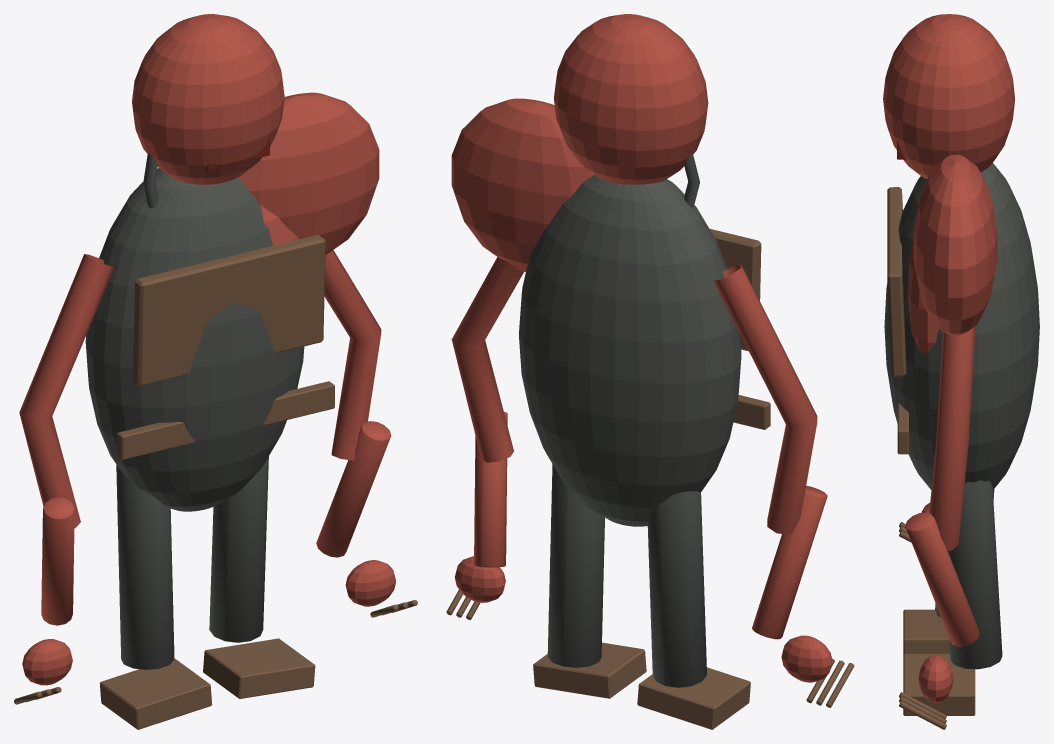
File: dz_enemy_brute_female_A.glb
3 views of the same model, side by side, from view 1: azimuth 30°, elevation 25°; view 2: azimuth 150°, elevation 25°; view 3: azimuth 270°, elevation 25° (orthographic). The views are drawn at different scales.
Parts seen in each view (by area): view 1: dz_torso_core, dz_head_forward, dz_rusted_plate_chest, dz_heavy_shoulder_mutation, dz_limb_leg_L, dz_limb_arm_L, dz_limb_leg_R, dz_limb_arm_R, dz_foot_drag_L, dz_foot_drag_R, dz_limb_forearm_R, dz_limb_forearm_L (+4 smaller); view 2: dz_torso_core, dz_head_forward, dz_heavy_shoulder_mutation, dz_limb_leg_L, dz_limb_leg_R, dz_limb_arm_L, dz_limb_arm_R, dz_limb_forearm_L, dz_foot_drag_L, dz_foot_drag_R, dz_limb_forearm_R, dz_hand_claw_L (+3 smaller); view 3: dz_torso_core, dz_head_forward, dz_heavy_shoulder_mutation, dz_limb_arm_R, dz_limb_leg_R, dz_limb_forearm_R, dz_rusted_plate_chest, dz_foot_drag_R, dz_foot_drag_L, dz_chest_infected_growth, dz_hand_claw_R, dz_chain_belt_brute (+1 smaller).
Part boxes in pixels (left/top/right/bottom): dz_torso_core: left=85, top=168, right=304, bottom=511; dz_head_forward: left=132, top=14, right=284, bottom=185; dz_rusted_plate_chest: left=133, top=235, right=325, bottom=386; dz_heavy_shoulder_mutation: left=239, top=92, right=379, bottom=255; dz_limb_leg_L: left=116, top=464, right=174, bottom=669; dz_limb_arm_L: left=19, top=254, right=114, bottom=528; dz_limb_leg_R: left=209, top=456, right=268, bottom=642; dz_limb_arm_R: left=324, top=250, right=381, bottom=460; dz_foot_drag_L: left=99, top=658, right=212, bottom=729; dz_foot_drag_R: left=203, top=638, right=315, bottom=698; dz_limb_forearm_R: left=316, top=421, right=391, bottom=557; dz_limb_forearm_L: left=41, top=497, right=74, bottom=625; dz_torso_core: left=519, top=174, right=741, bottom=526; dz_head_forward: left=554, top=14, right=708, bottom=184; dz_heavy_shoulder_mutation: left=451, top=98, right=593, bottom=271; dz_limb_leg_L: left=647, top=491, right=706, bottom=687; dz_limb_leg_R: left=547, top=464, right=604, bottom=667; dz_limb_arm_L: left=713, top=265, right=817, bottom=534; dz_limb_arm_R: left=451, top=257, right=523, bottom=462; dz_limb_forearm_L: left=752, top=485, right=827, bottom=639; dz_foot_drag_L: left=637, top=667, right=750, bottom=729; dz_foot_drag_R: left=533, top=642, right=646, bottom=698; dz_limb_forearm_R: left=474, top=412, right=507, bottom=567; dz_hand_claw_L: left=781, top=635, right=832, bottom=682; dz_torso_core: left=884, top=163, right=1039, bottom=489; dz_head_forward: left=883, top=14, right=1014, bottom=179; dz_heavy_shoulder_mutation: left=913, top=154, right=997, bottom=335; dz_limb_arm_R: left=929, top=326, right=975, bottom=550; dz_limb_leg_R: left=947, top=480, right=1002, bottom=669; dz_limb_forearm_R: left=905, top=512, right=979, bottom=646; dz_rusted_plate_chest: left=887, top=187, right=906, bottom=376; dz_foot_drag_R: left=903, top=654, right=975, bottom=715; dz_foot_drag_L: left=903, top=609, right=949, bottom=654; dz_chest_infected_growth: left=907, top=242, right=938, bottom=353; dz_hand_claw_R: left=918, top=655, right=953, bottom=702; dz_chain_belt_brute: left=897, top=403, right=908, bottom=454.
Size of what is drawn, in the model's own units: 1.32 by 2.22 by 0.4796.
